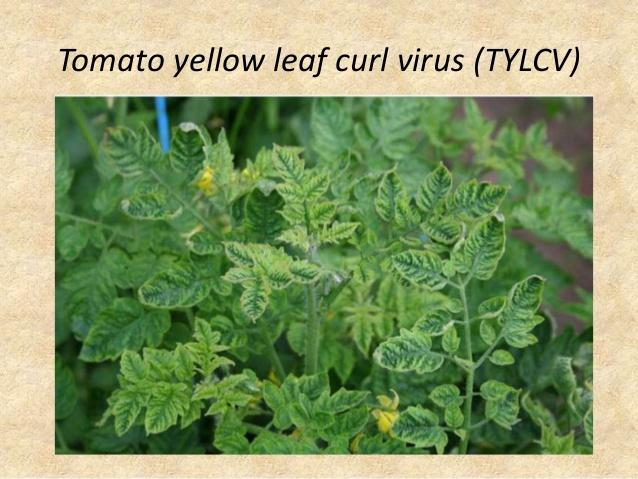Tomato leaf: (73, 290, 181, 365), (135, 253, 210, 314), (101, 120, 166, 174), (492, 275, 551, 334), (369, 325, 433, 377), (414, 153, 462, 221), (463, 217, 509, 287), (370, 167, 408, 247), (172, 119, 216, 187), (449, 176, 518, 217), (258, 136, 311, 189), (391, 249, 450, 296), (384, 406, 452, 445), (122, 191, 185, 230), (236, 271, 272, 331), (315, 388, 380, 418), (109, 387, 151, 433), (118, 346, 157, 393), (147, 385, 182, 437), (286, 255, 333, 292), (304, 168, 345, 207), (219, 239, 264, 274), (260, 378, 287, 419), (174, 345, 199, 382), (277, 176, 303, 205), (218, 371, 252, 391)
